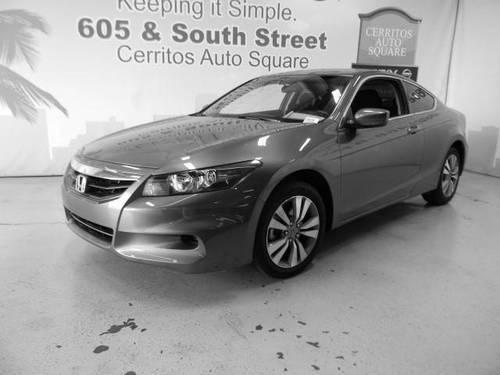car: (61, 67, 470, 277)
